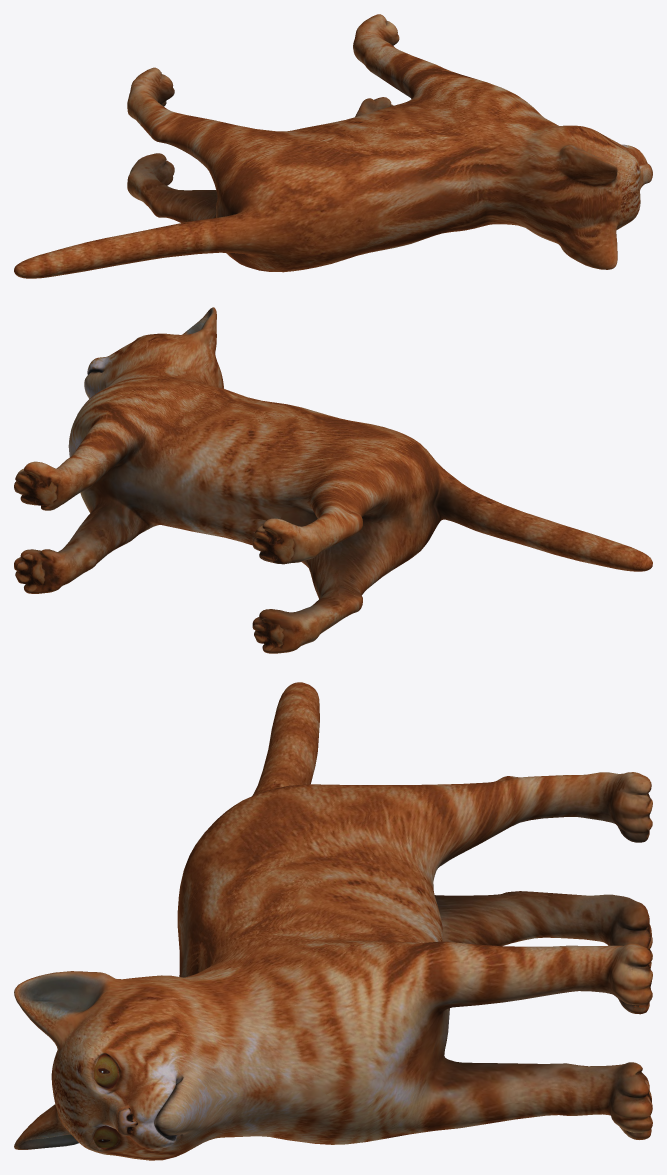
The model's file is cat_v01.obj.
3 renders of one model, top to bottom at view 1: azimuth 30°, elevation 25°; view 2: azimuth 150°, elevation 25°; view 3: azimuth 270°, elevation 25°, orthographic. The views are drawn at different scales.
Visible parts, largest first — view 1: cat_v01; view 2: cat_v01; view 3: cat_v01.
Part boxes in pixels (x1,y1,x2,y2): cat_v01: [14, 14, 652, 278]; cat_v01: [14, 307, 652, 653]; cat_v01: [14, 682, 652, 1160].
Bounding box in the file's own units: 0.6089 × 0.1256 × 0.3761.
Materials: 1 (1 with a texture image).
